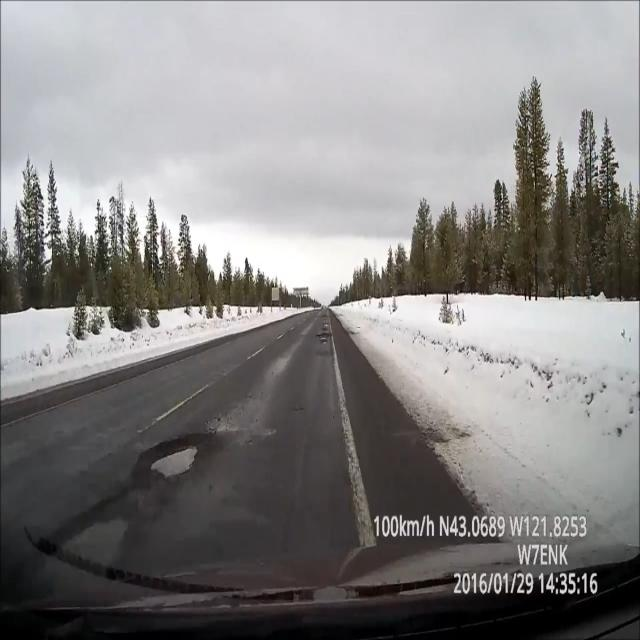Pothole: (141, 432, 209, 479), (84, 508, 134, 560), (315, 317, 333, 351)
